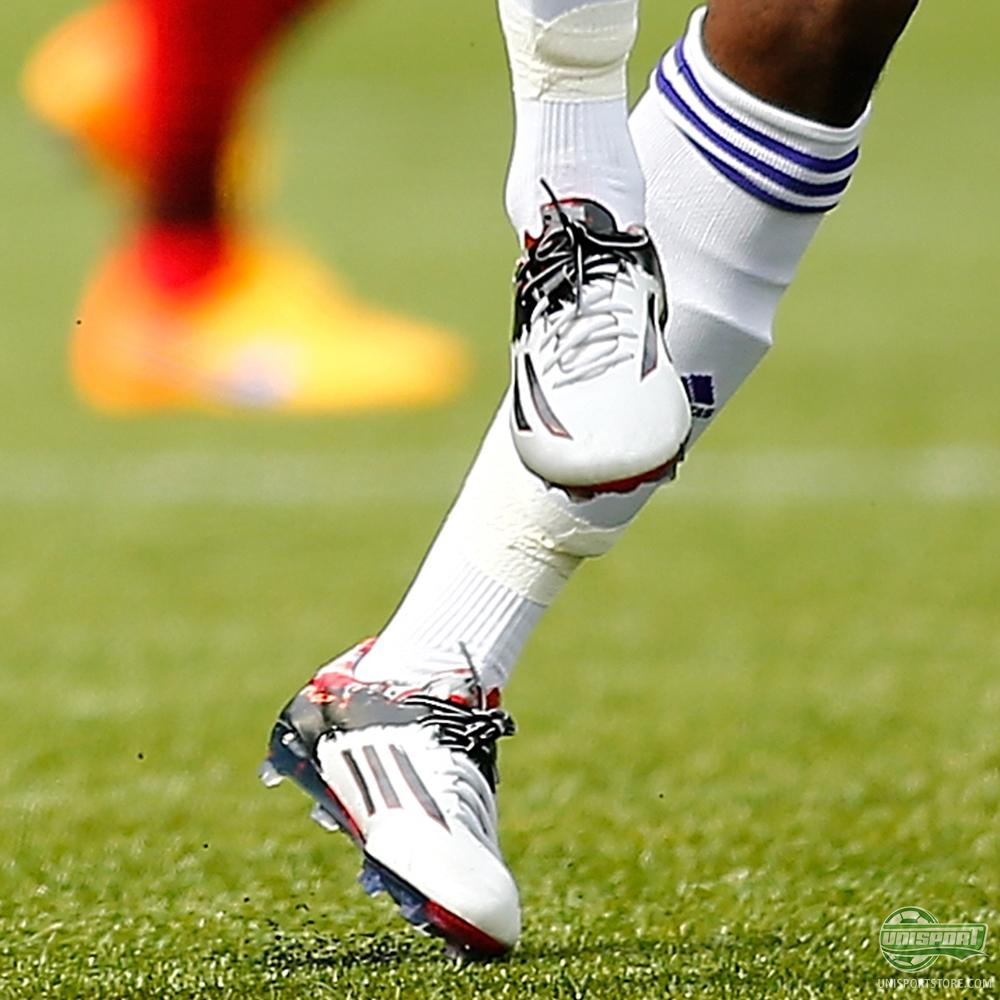football boots: (262, 641, 524, 962), (509, 201, 694, 507)
